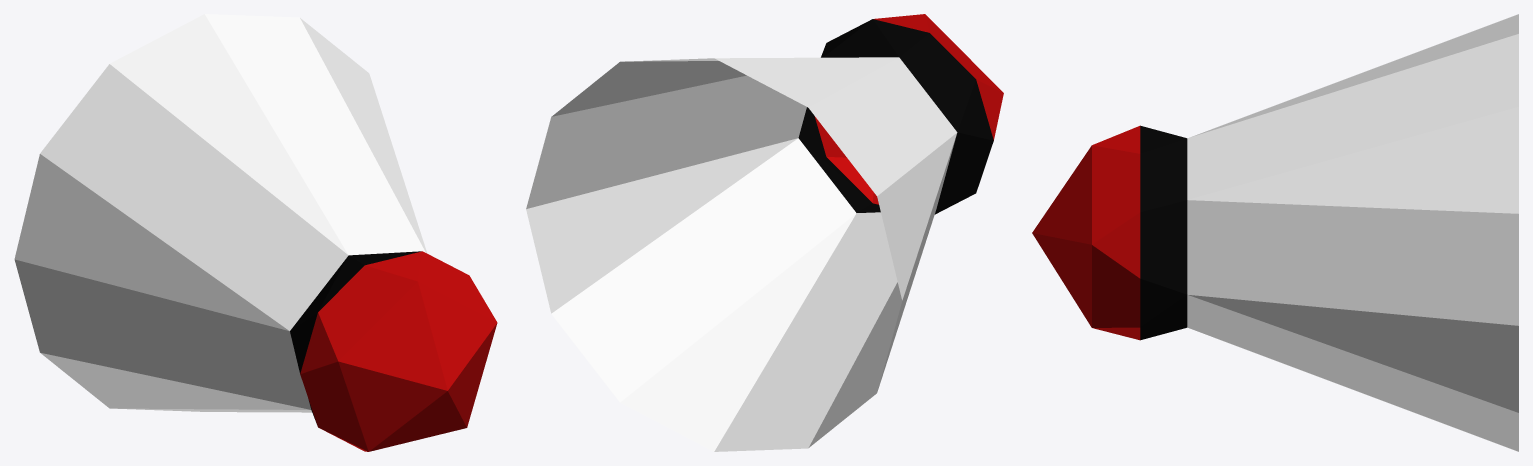
Rendered from Badminton_ball.fbx.
3 views of the same model, side by side, from view 1: azimuth 30°, elevation 25°; view 2: azimuth 150°, elevation 25°; view 3: azimuth 270°, elevation 25° (orthographic).
Parts seen in each view (by area): view 1: Badminton_ball; view 2: Badminton_ball; view 3: Badminton_ball.
Part boxes in pixels (box(x1,y1,x2,y2)): Badminton_ball: box(14, 14, 497, 451); Badminton_ball: box(526, 14, 1003, 451); Badminton_ball: box(1032, 14, 1518, 451).
Size of the model in its own units: 10.09 by 10.09 by 11.17.
